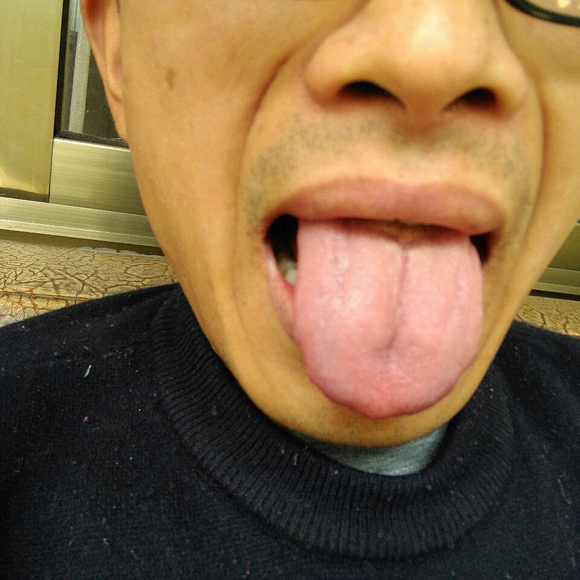baitaishe: (293, 218, 485, 418)
liewenshe: (380, 252, 410, 353)
